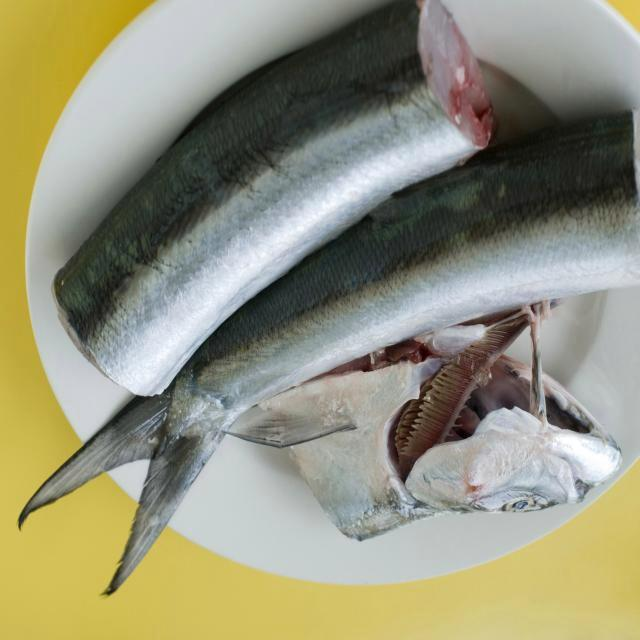fish: (19, 111, 639, 591), (51, 0, 494, 395), (259, 300, 621, 540)
